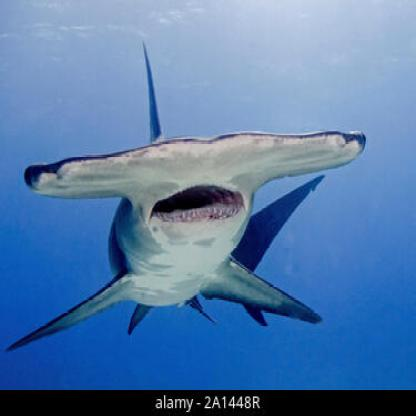hammerhead_Shark: (7, 39, 377, 368)
